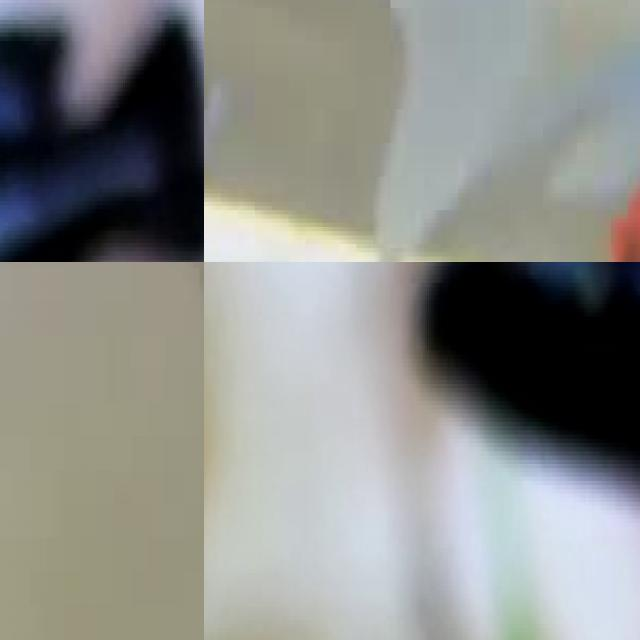fish: (414, 262, 640, 565), (0, 0, 204, 262)
